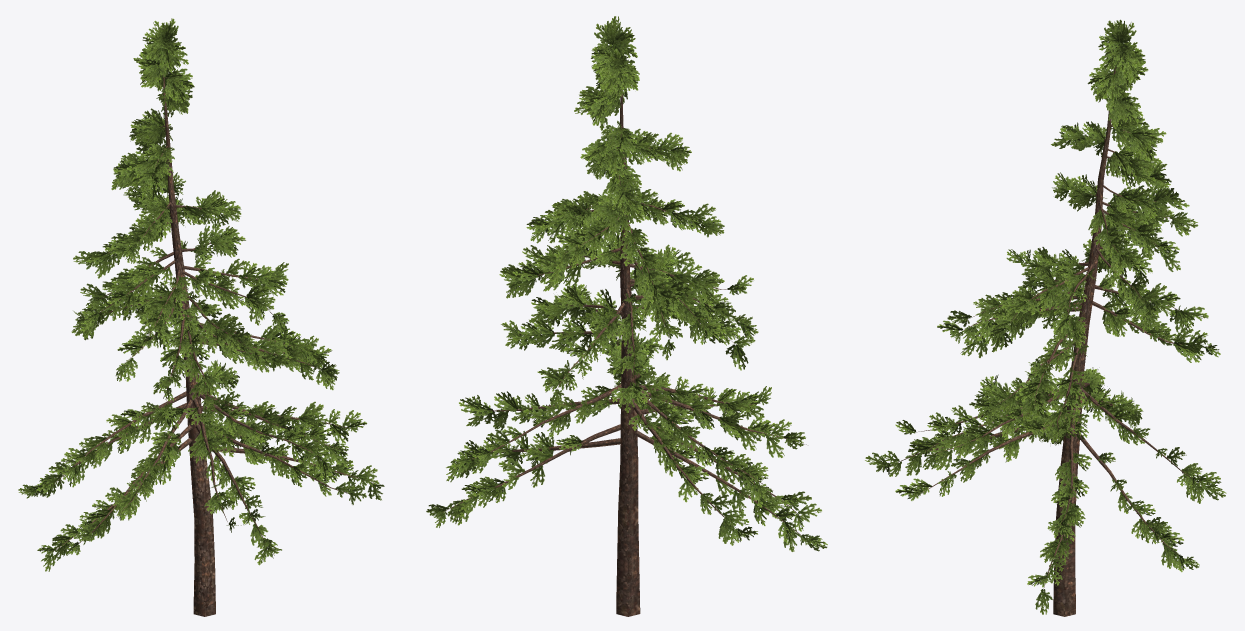
The model's file is pine_a.glb.
3 renders of one model, left to right at view 1: azimuth 30°, elevation 25°; view 2: azimuth 150°, elevation 25°; view 3: azimuth 270°, elevation 25°, orthographic. The views are drawn at different scales.
Visible parts, largest first — view 1: Tree; view 2: Tree; view 3: Tree.
Boxes of the visible parts, x1,y1,x2,y2 form: Tree: [18, 18, 384, 616]; Tree: [426, 16, 827, 616]; Tree: [865, 19, 1226, 616].
Bounding box in the file's own units: 33.35 × 51.85 × 29.41.
2 materials, 2 textured.
